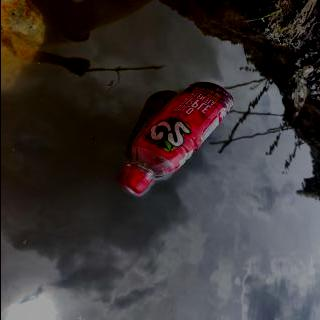bottle: (114, 78, 235, 194)
